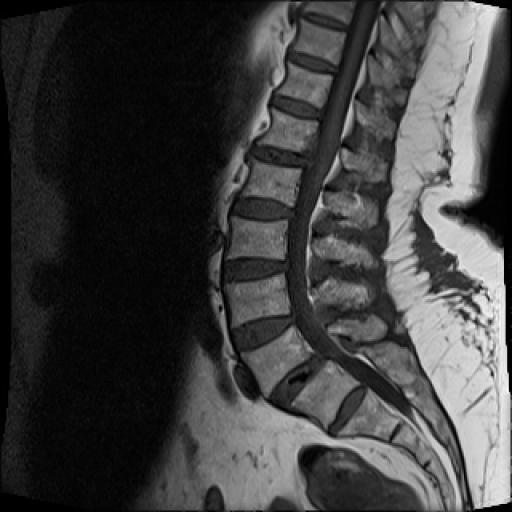L1: (258, 108, 318, 152)
L2: (242, 159, 302, 206)
L3: (228, 216, 288, 260)
L4: (226, 273, 290, 326)
L5: (240, 325, 313, 398)
S1: (291, 360, 359, 430)
